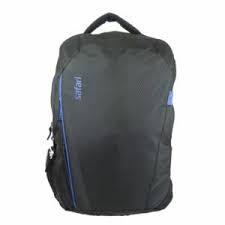backpack: (44, 11, 176, 216)
